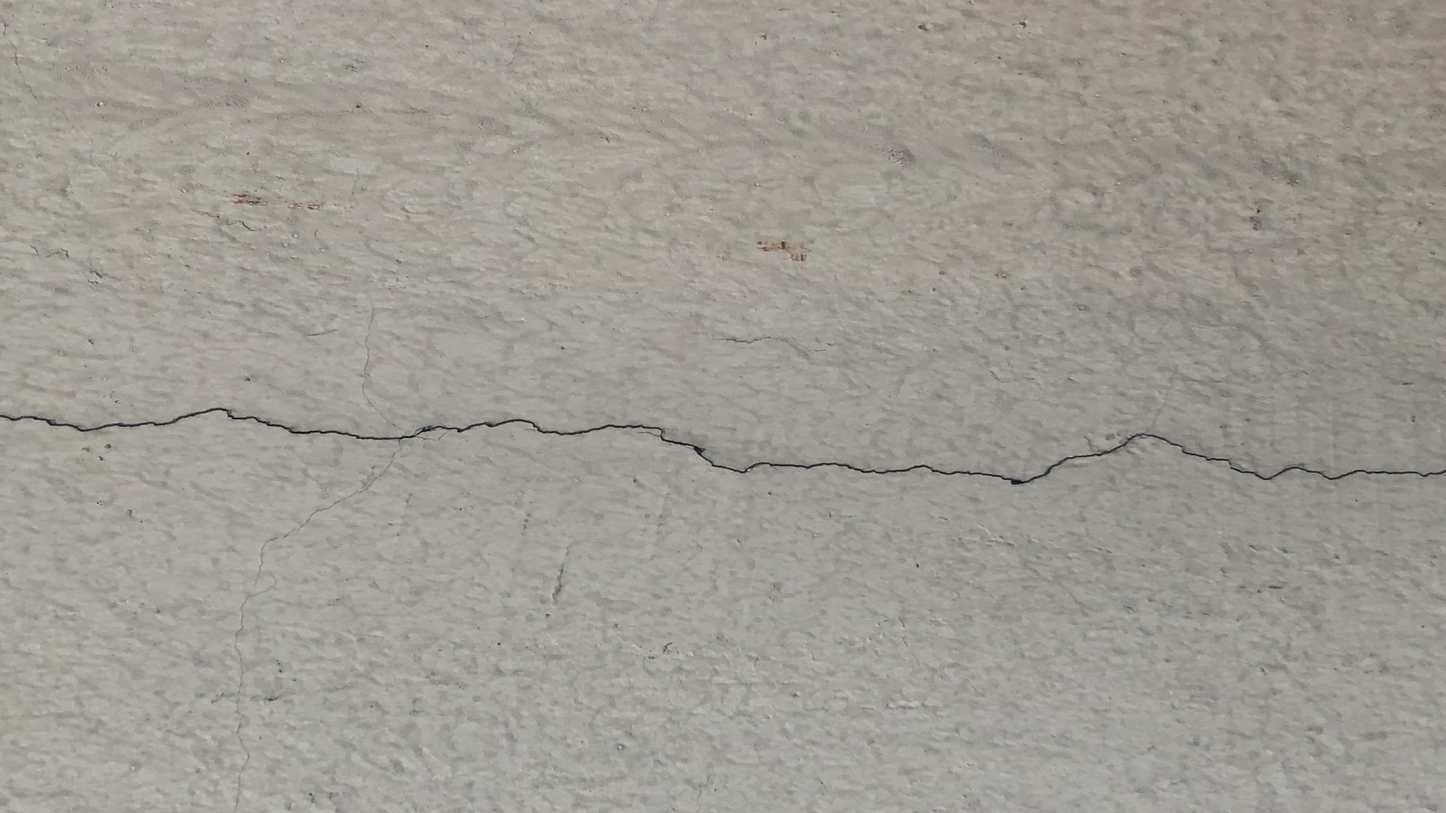crack: (1, 406, 1444, 487)
